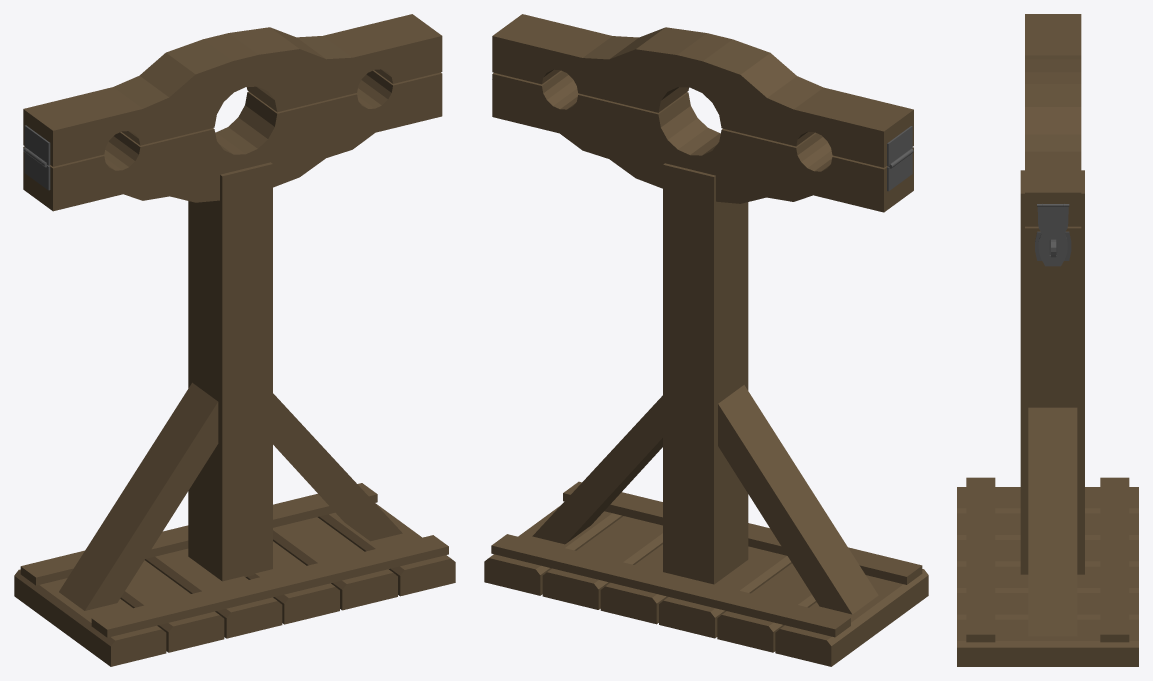
The model's file is HoldingStraffThing.fbx.
3 renders of one model, left to right at view 1: azimuth 30°, elevation 25°; view 2: azimuth 150°, elevation 25°; view 3: azimuth 270°, elevation 25°, orthographic. The views are drawn at different scales.
Visible parts, largest first — view 1: HoldingStraffThing; view 2: HoldingStraffThing; view 3: HoldingStraffThing.
Boxes of the visible parts, x1,y1,x2,y2 form: HoldingStraffThing: (14, 14, 455, 666); HoldingStraffThing: (484, 14, 928, 666); HoldingStraffThing: (957, 14, 1138, 666).
Size of the model in its own units: 110 by 140 by 45.25.
